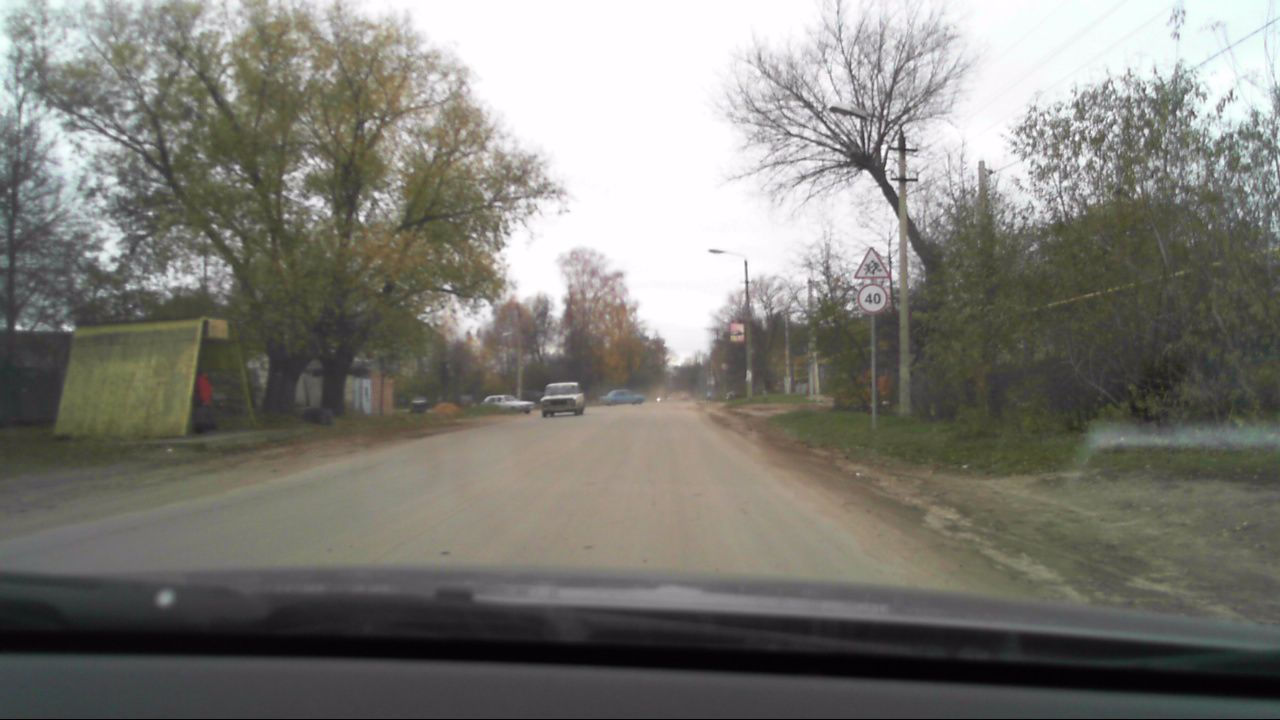speed_warning_40: (857, 283, 888, 312)
